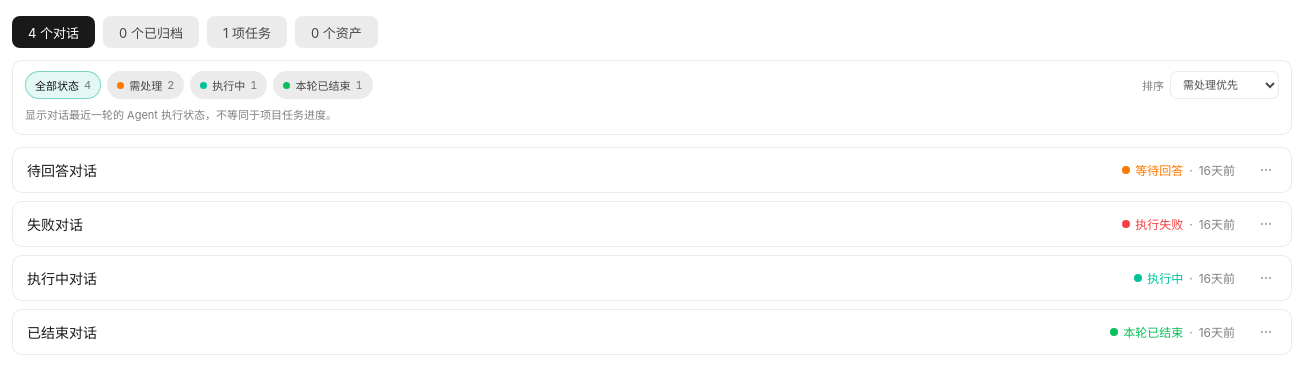
Test: 项目计划/任务与 Agent 会话闭环 › 项目动态展示可信执行状态并支持待处理筛选与优先排序
The width and height of the screenshot is (1292, 372).
Check: the element named "执行状态：等待回答" is shown, box left=1122, top=161, right=1183, bottom=178
Check: the element named "执行状态：执行失败" is shown, box left=1122, top=215, right=1183, bottom=232
Click the button with aria-label "需处理，2 个对话" at point(146, 85), box left=107, top=71, right=184, bottom=99
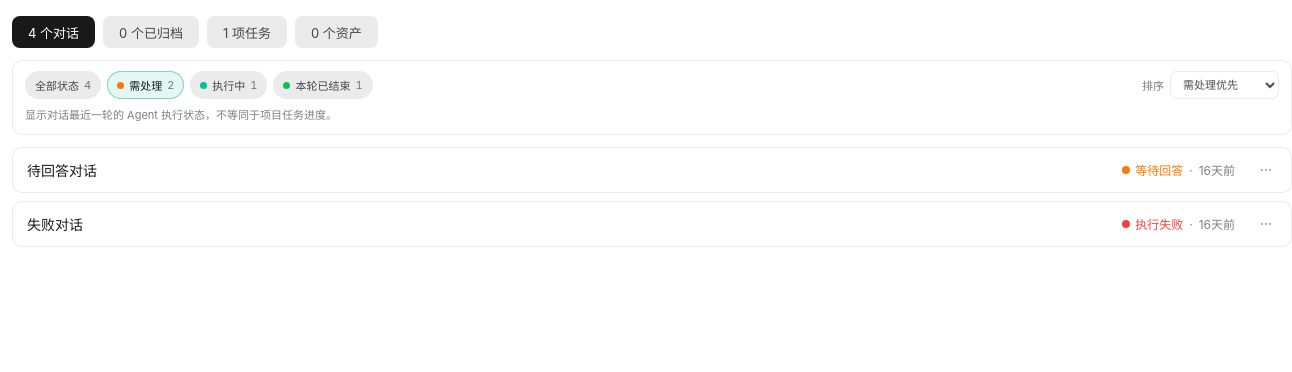
Check: the text "待回答对话" is shown, box left=27, top=162, right=97, bottom=178
Check: the button "已结束对话" is gone
Check: the button "执行中对话" is gone
